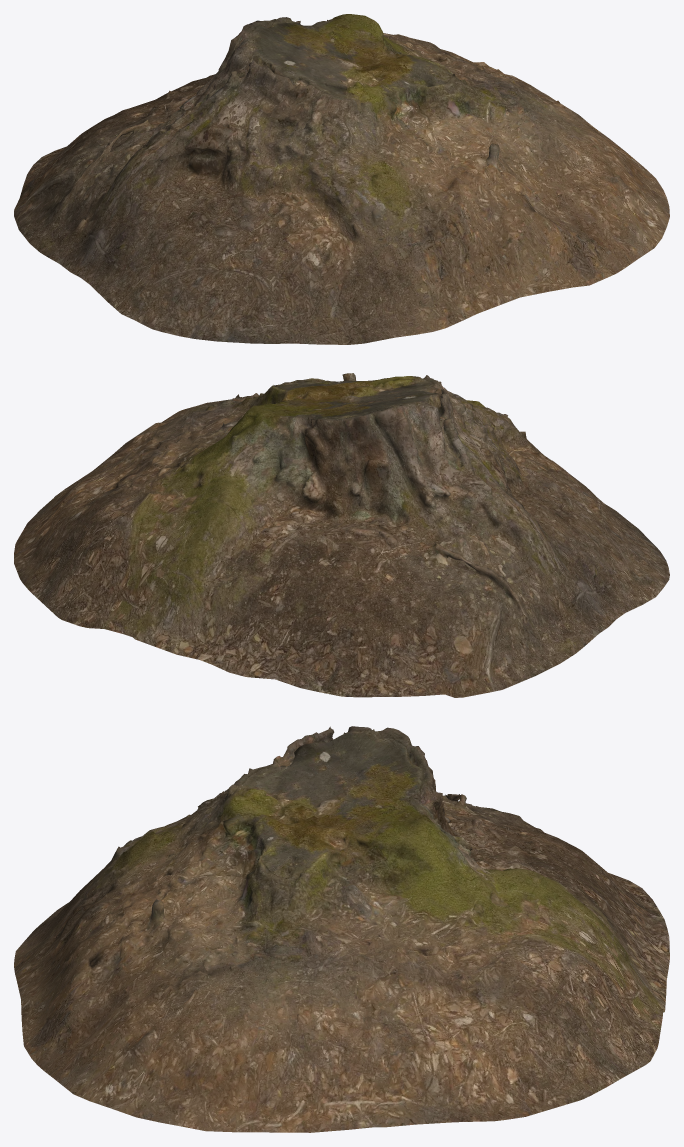
The model's file is tree_stump_02.glb.
3 views of the same model, one above another, from view 1: azimuth 30°, elevation 25°; view 2: azimuth 150°, elevation 25°; view 3: azimuth 270°, elevation 25° (orthographic). The views are drawn at different scales.
Visible parts, largest first — view 1: tree_stump_02; view 2: tree_stump_02; view 3: tree_stump_02.
Boxes of the visible parts, x1,y1,x2,y2 form: tree_stump_02: [14, 14, 669, 344]; tree_stump_02: [14, 373, 669, 697]; tree_stump_02: [14, 726, 669, 1132].
Bounding box in the file's own units: 1.52 × 0.522 × 1.39.
Materials: 1 (1 with a texture image).
